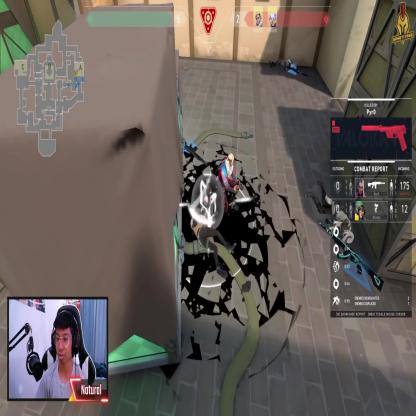enemy: (218, 153, 239, 217)
enemy_head: (227, 153, 234, 167)
